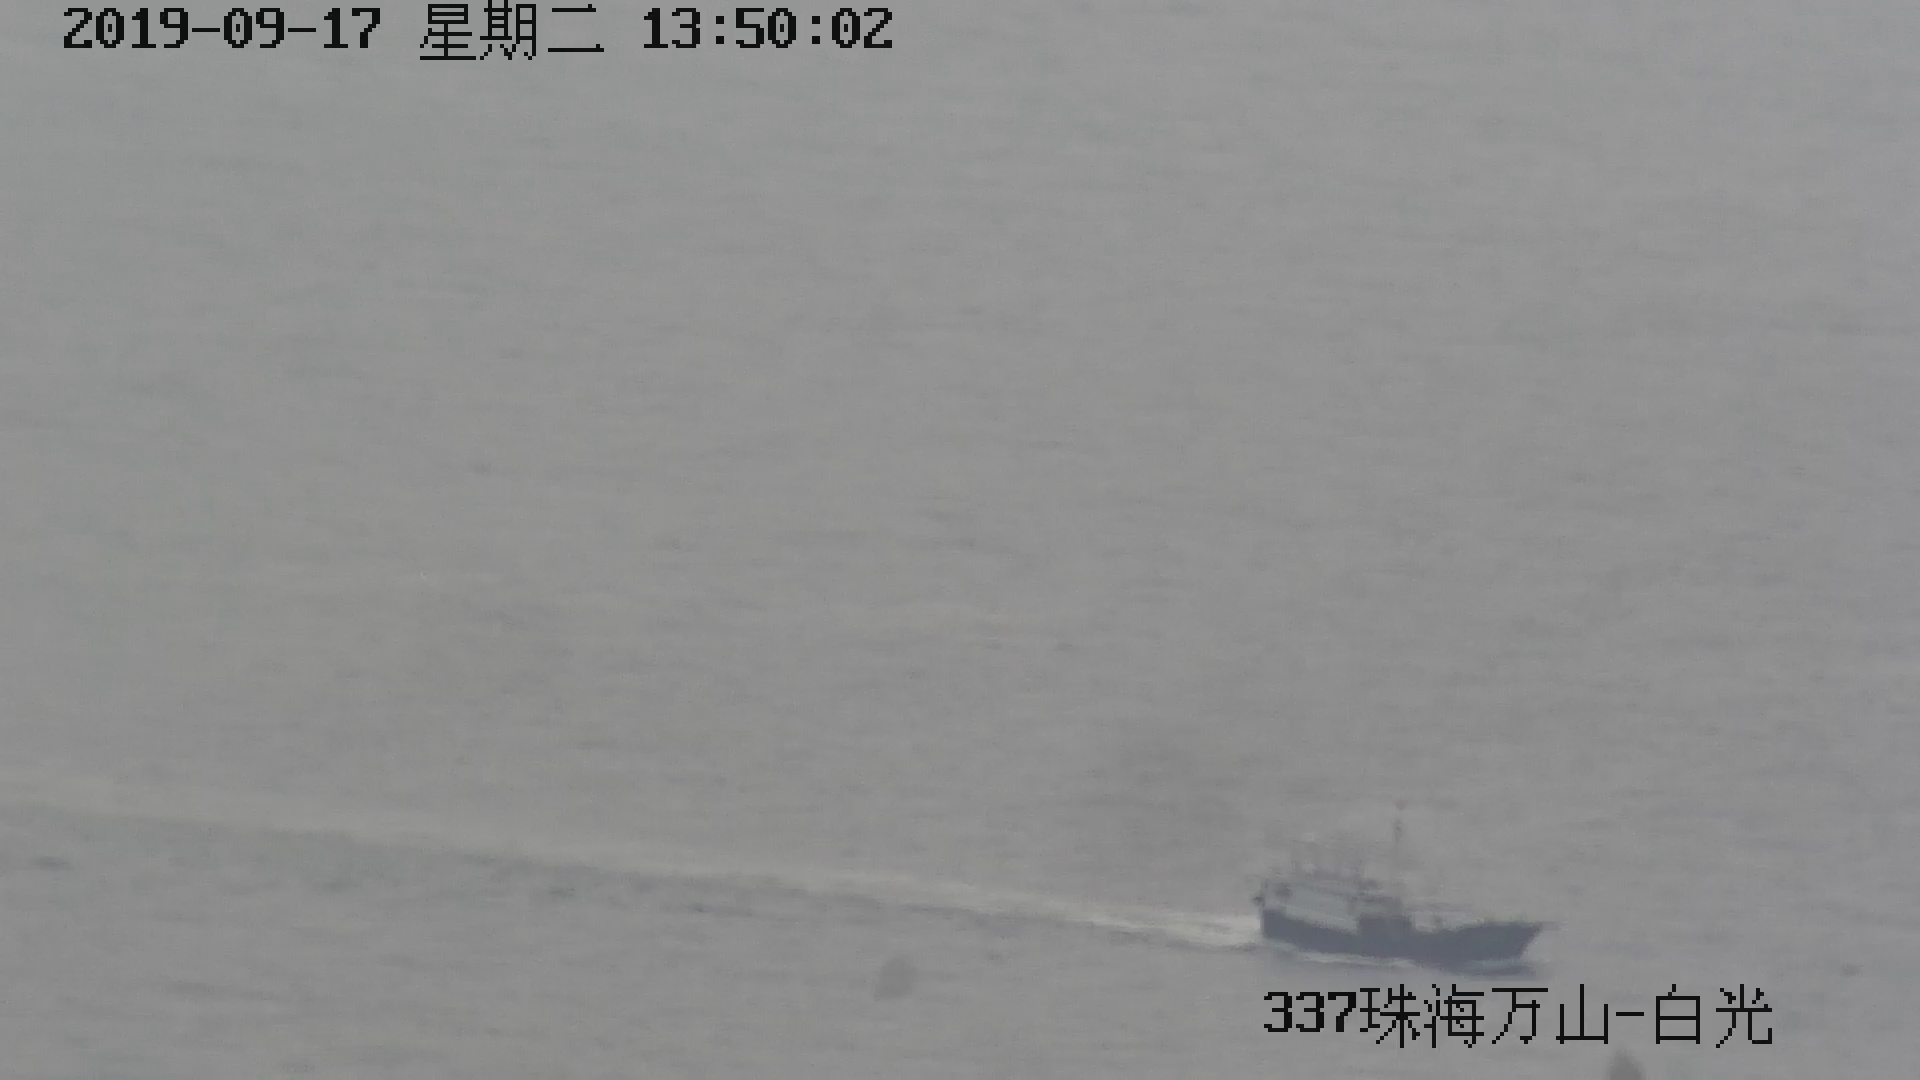ship: (1247, 822, 1557, 976)
